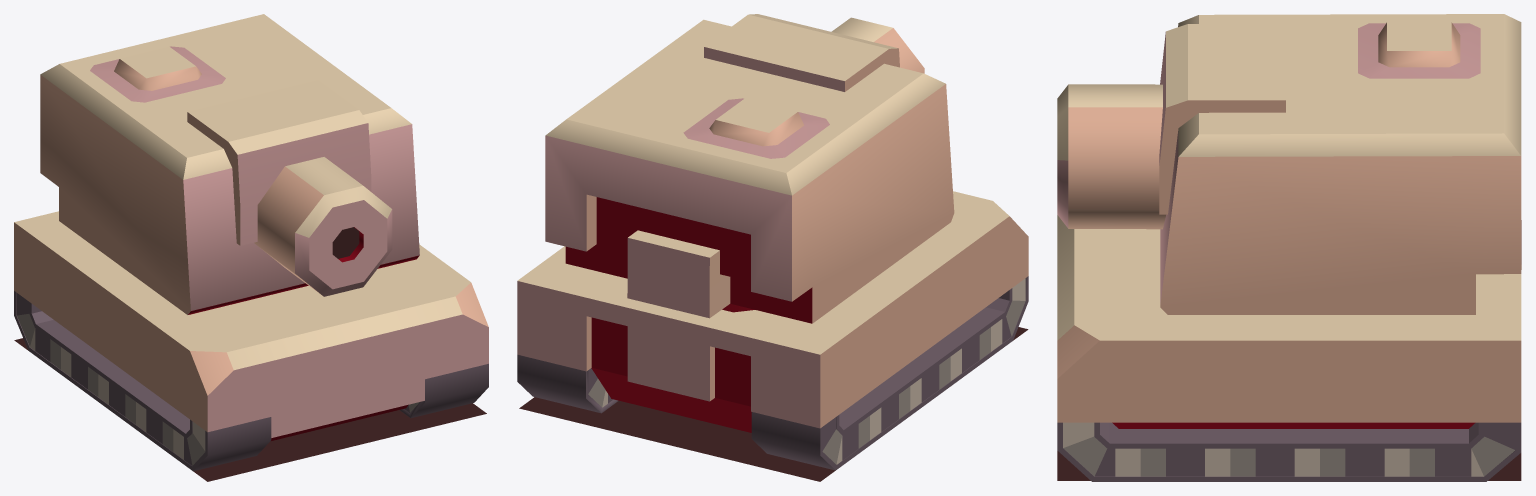
File: MediumTankMesh.WhiteNova.glb
3 views of the same model, side by side, from view 1: azimuth 30°, elevation 25°; view 2: azimuth 150°, elevation 25°; view 3: azimuth 270°, elevation 25° (orthographic). The views are drawn at different scales.
Visible parts, largest first — view 1: MediumTankMesh.WhiteNova; view 2: MediumTankMesh.WhiteNova; view 3: MediumTankMesh.WhiteNova.
Boxes of the visible parts, box(x1,y1,x2,y2) form: MediumTankMesh.WhiteNova: box(14, 14, 488, 481); MediumTankMesh.WhiteNova: box(517, 14, 1028, 481); MediumTankMesh.WhiteNova: box(1057, 14, 1521, 481).
Bounding box in the file's own units: 1.72 × 1.66 × 2.05.
Materials: 1 (1 with a texture image).
